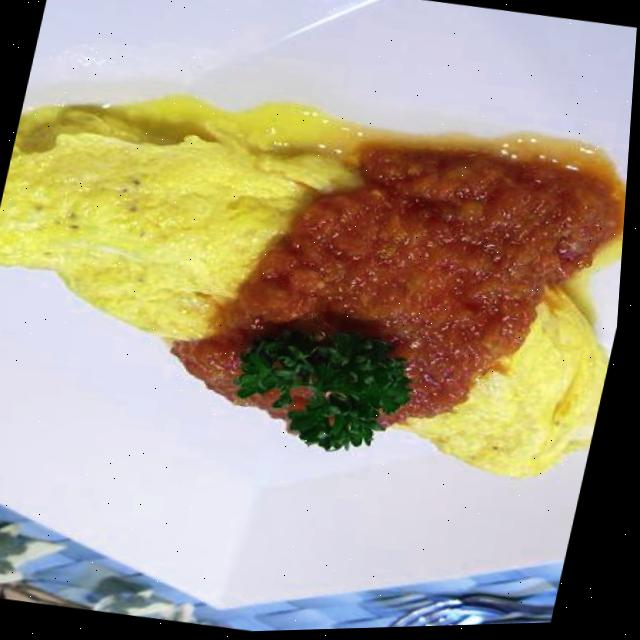鸡蛋料理: (0, 46, 637, 593)
